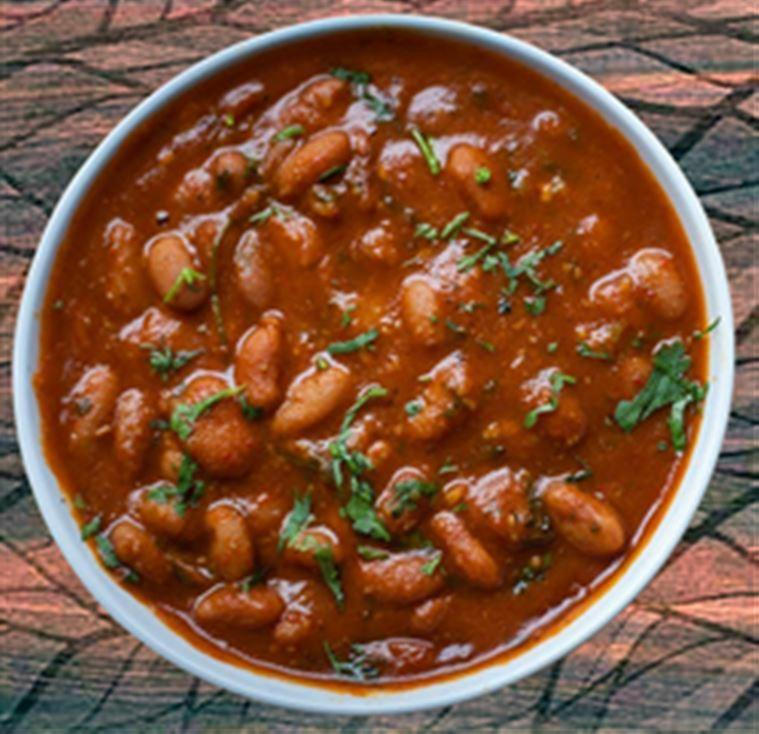RajmaCurry: (49, 22, 714, 684)
